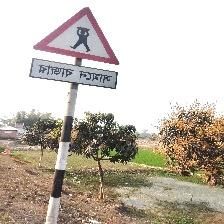Market-in-front: (29, 5, 121, 92)
